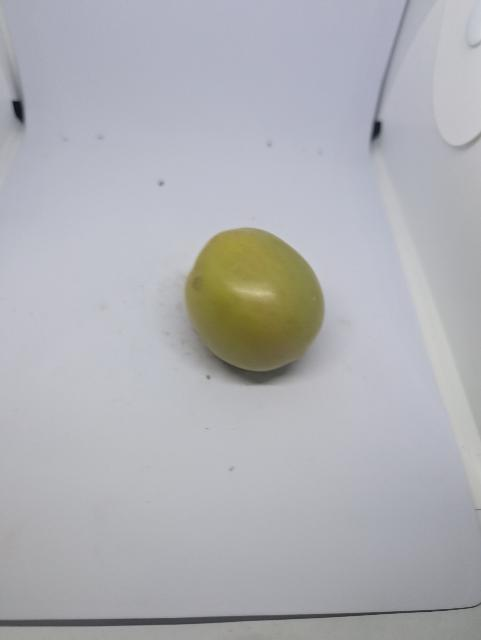breaker: (185, 228, 325, 372)
